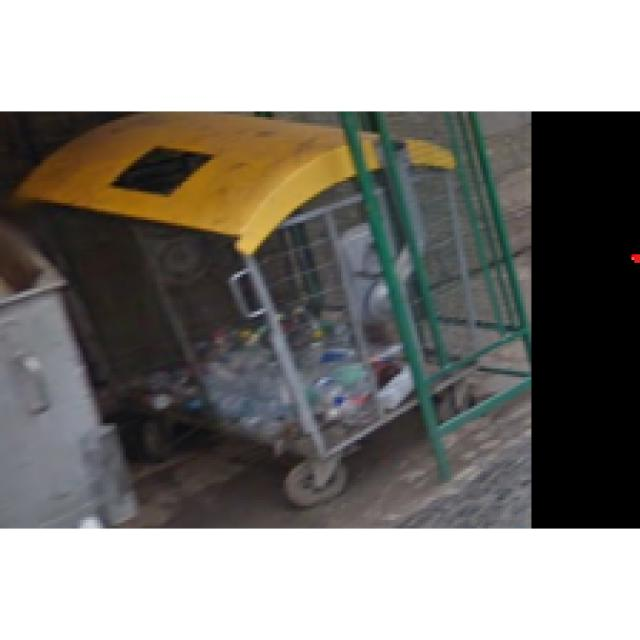plastic trash bin: (30, 120, 419, 515)
